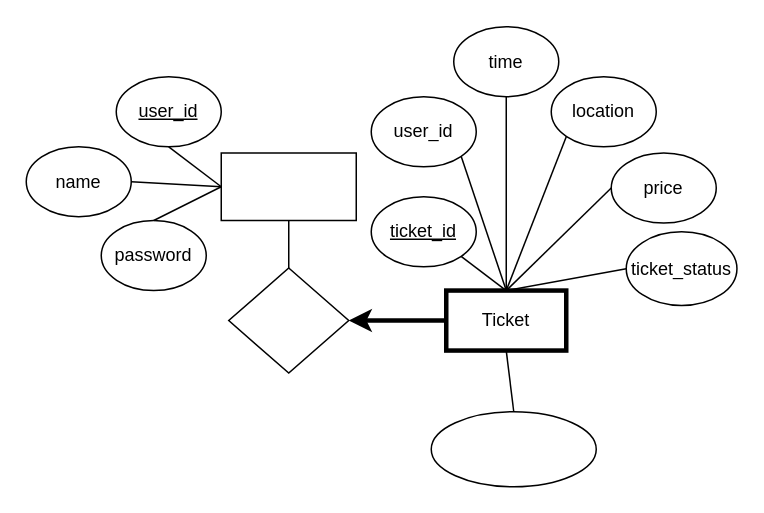
Image size: 764x513. Some labels were removed from this diagram. Each missing label, with the box of its shape:
buyer/seller_id?: (430, 410, 596, 487)
BuySells: (227, 267, 349, 373)
User: (220, 152, 356, 220)
